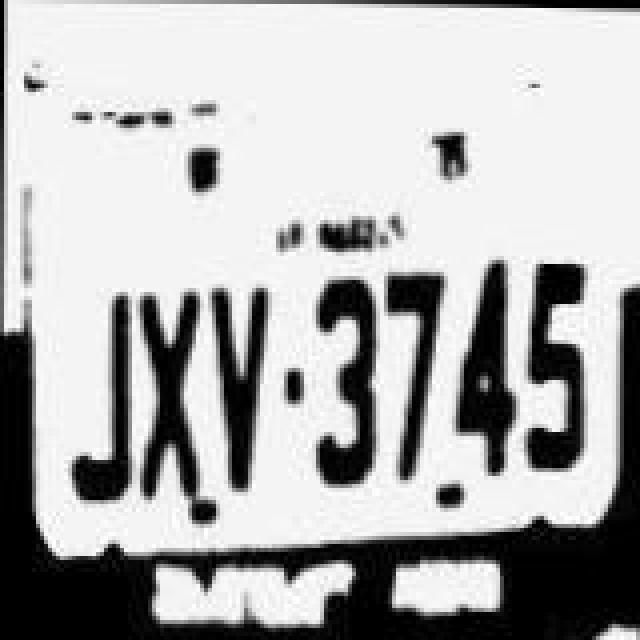3: (304, 276, 384, 488)
4: (454, 246, 526, 482)
5: (516, 254, 592, 482)
7: (378, 272, 450, 488)
J: (58, 280, 134, 512)
V: (200, 268, 272, 500)
X: (132, 280, 204, 500)
